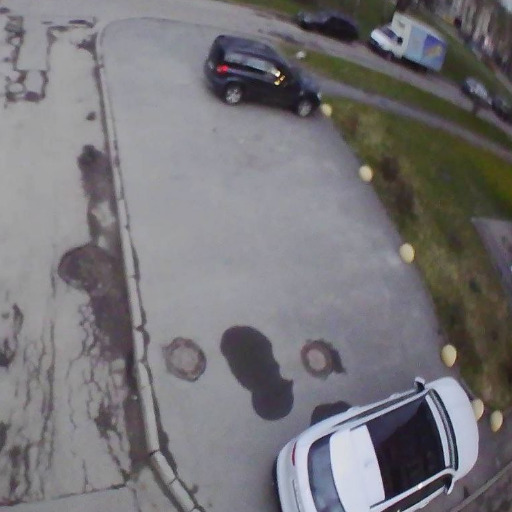Car: (273, 373, 478, 509), (202, 29, 319, 116), (369, 8, 445, 72), (299, 7, 357, 43), (461, 75, 489, 107), (490, 95, 510, 121)
